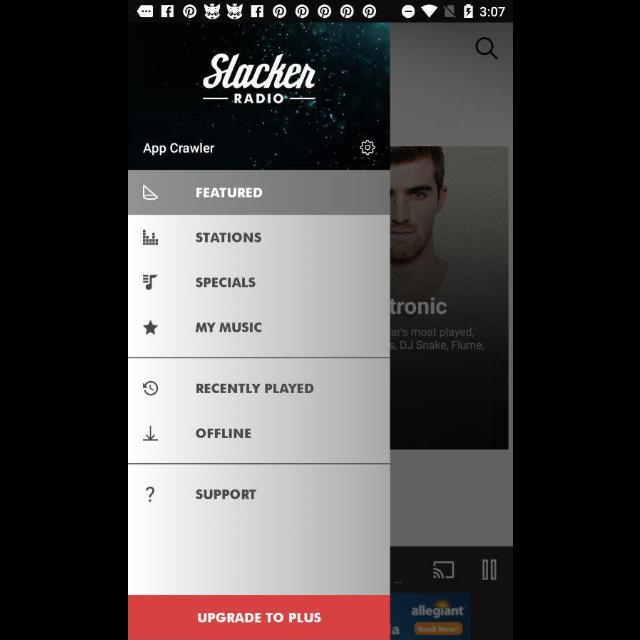icon: (474, 38, 498, 60), (359, 140, 375, 156), (142, 320, 158, 334), (142, 381, 158, 395), (142, 426, 158, 440), (144, 486, 154, 502)
image: (202, 52, 316, 104), (142, 185, 158, 201), (142, 230, 158, 246), (142, 276, 158, 290)
panel: (128, 22, 390, 640)
text: (196, 383, 314, 393), (143, 143, 215, 157), (195, 188, 262, 198), (195, 323, 261, 333), (195, 233, 261, 243), (196, 490, 256, 500), (195, 278, 255, 288), (195, 428, 251, 438)
textbutton: (128, 596, 390, 640)
uppertaskbar: (128, 1, 512, 23)
